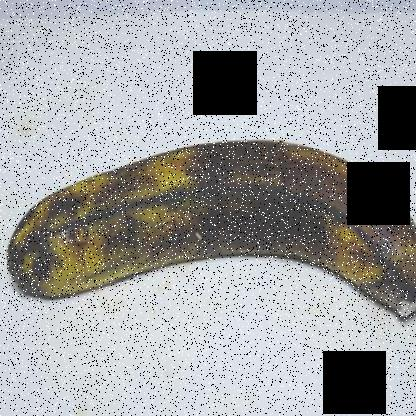overripe: (1, 104, 415, 352)
